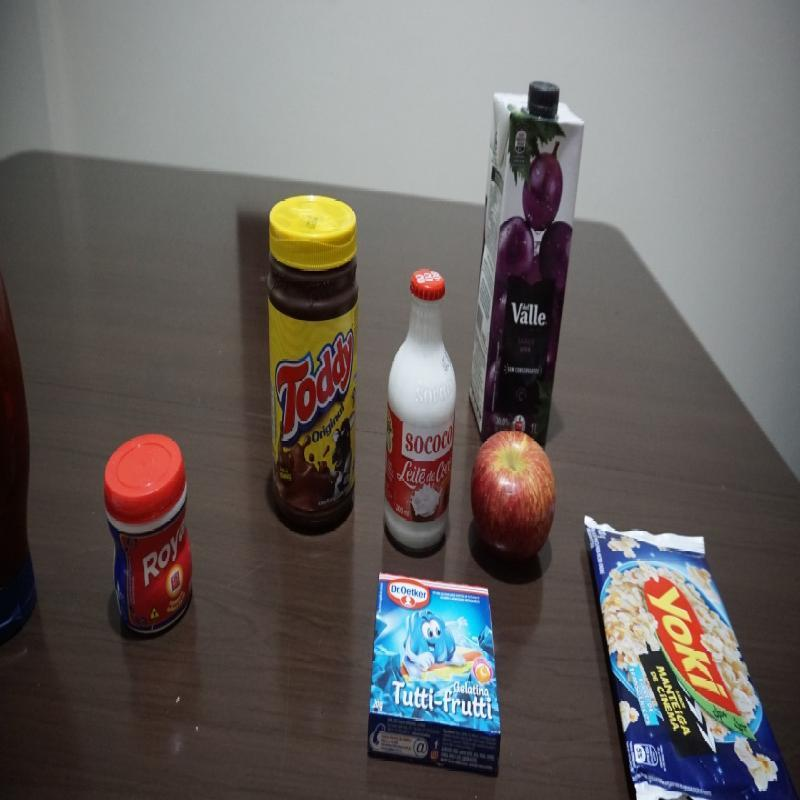Apple: (470, 428, 559, 570)
Chocolate Powder: (266, 192, 360, 534)
Coconut Milk: (385, 267, 458, 556)
Gelatine: (368, 570, 503, 778)
Ketchup: (0, 262, 38, 648)
Popcorn: (581, 512, 795, 796)
Yeast: (102, 433, 196, 641)
